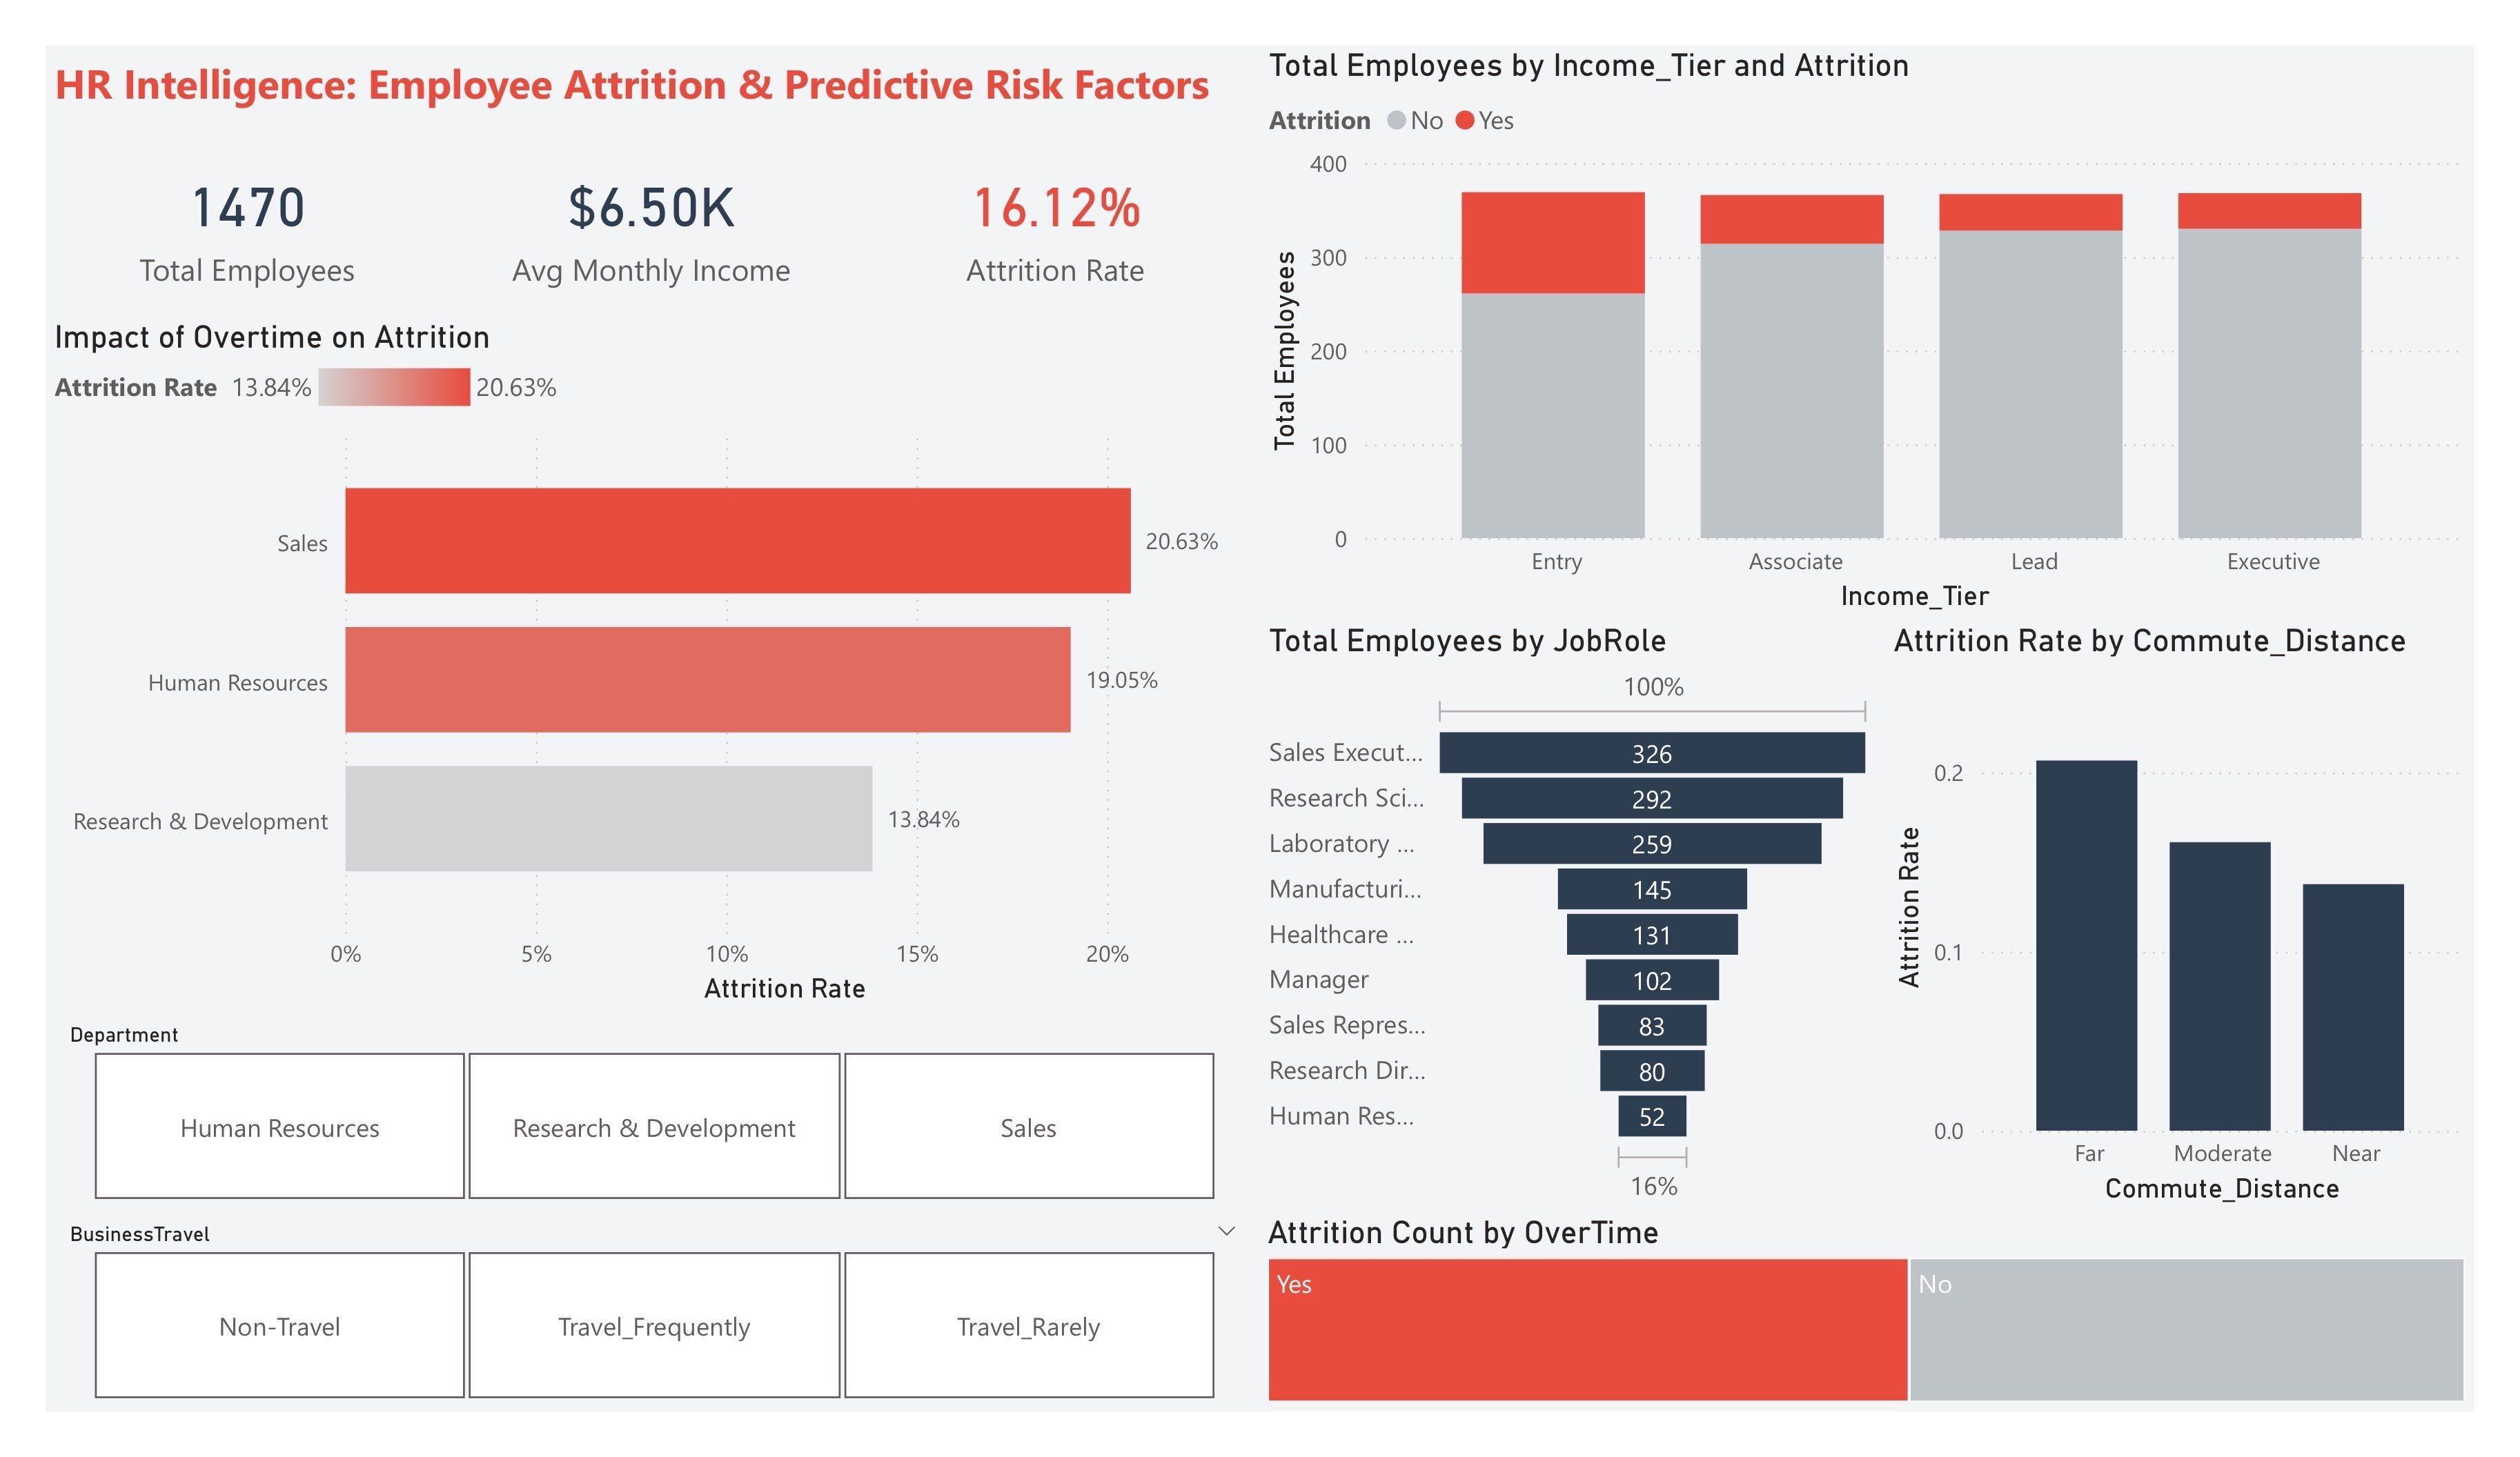

Layout of this report page (visuals, bound fields, positions):
{"tool":"powerbi","page":{"name":"Page 1","canvas":[1280,720],"ordinal":0},"visuals":[{"type":"card","fields":{"Values":["HR_Cleaned_Data.Total Employees"]},"box":[0,44,213,99],"z":0},{"type":"card","fields":{"Values":["HR_Cleaned_Data.Attrition Rate"]},"box":[426,44,213,99],"z":1000},{"type":"clusteredBarChart","title":"Impact of Overtime on Attrition","fields":{"Category":["HR_Cleaned_Data.Department"],"Y":["HR_Cleaned_Data.Attrition Rate"]},"box":[0,143,639,367],"z":2000},{"type":"treemap","fields":{"Group":["HR_Cleaned_Data.OverTime"],"Values":["HR_Cleaned_Data.Attrition Count"]},"box":[639,615,641,105],"z":3000},{"type":"columnChart","fields":{"Category":["HR_Cleaned_Data.Income_Tier"],"Y":["HR_Cleaned_Data.Total Employees"],"Series":["HR_Cleaned_Data.Attrition"]},"box":[640,0,640,302.9],"z":4000},{"type":"funnel","fields":{"Category":["HR_Cleaned_Data.JobRole"],"Y":["HR_Cleaned_Data.Total Employees"]},"box":[640,303,329,312],"z":5000},{"type":"card","fields":{"Values":["Avg(HR_Cleaned_Data.MonthlyIncome)"]},"box":[213,44,213,99],"z":6000},{"type":"clusteredColumnChart","fields":{"Category":["HR_Cleaned_Data.Commute_Distance"],"Y":["HR_Cleaned_Data.Attrition Rate"]},"box":[969.3,302.9,310,312.1],"z":7000},{"type":"slicer","fields":{"Values":["HR_Cleaned_Data.Department"]},"box":[0,510,640,105],"z":8000},{"type":"slicer","fields":{"Values":["HR_Cleaned_Data.BusinessTravel"]},"box":[0,615,640,105],"z":9000},{"type":"textbox","box":[0,0,639,44],"z":9001}]}

Visuals, with their boxes in screenshot pixels (x1, y1, x2, y2), scaled from the page's 1280x720 canvas onto the 2520x1457 screenshot:
card - HR_Cleaned_Data.Total Employees: (left=0, top=89, right=420, bottom=289)
card - HR_Cleaned_Data.Attrition Rate: (left=838, top=89, right=1258, bottom=289)
"Impact of Overtime on Attrition" clusteredBarChart: (left=0, top=289, right=1258, bottom=1032)
treemap - HR_Cleaned_Data.OverTime x HR_Cleaned_Data.Attrition Count: (left=1258, top=1245, right=2519, bottom=1456)
columnChart - HR_Cleaned_Data.Income_Tier x HR_Cleaned_Data.Total Employees: (left=1260, top=0, right=2519, bottom=613)
funnel - HR_Cleaned_Data.JobRole x HR_Cleaned_Data.Total Employees: (left=1260, top=613, right=1908, bottom=1245)
card - Avg(HR_Cleaned_Data.MonthlyIncome): (left=420, top=89, right=838, bottom=289)
clusteredColumnChart - HR_Cleaned_Data.Commute_Distance x HR_Cleaned_Data.Attrition Rate: (left=1909, top=613, right=2519, bottom=1245)
slicer - HR_Cleaned_Data.Department: (left=0, top=1032, right=1260, bottom=1245)
slicer - HR_Cleaned_Data.BusinessTravel: (left=0, top=1245, right=1260, bottom=1456)
textbox: (left=0, top=0, right=1258, bottom=89)
